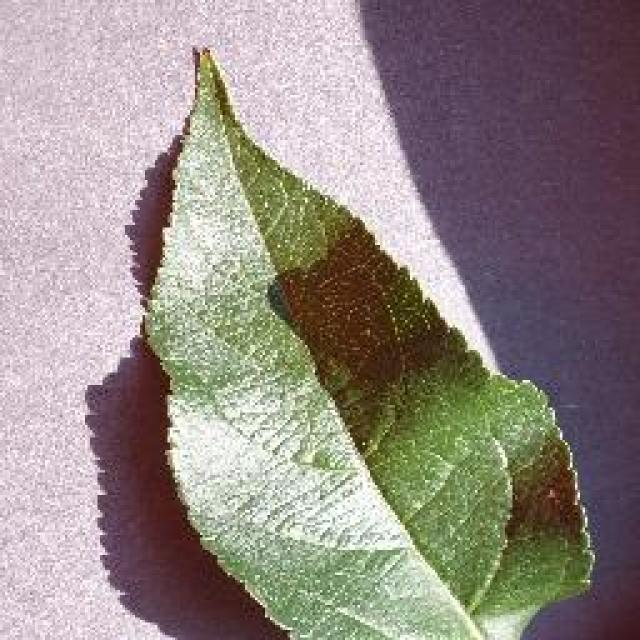apple healthy: (138, 42, 598, 638)
